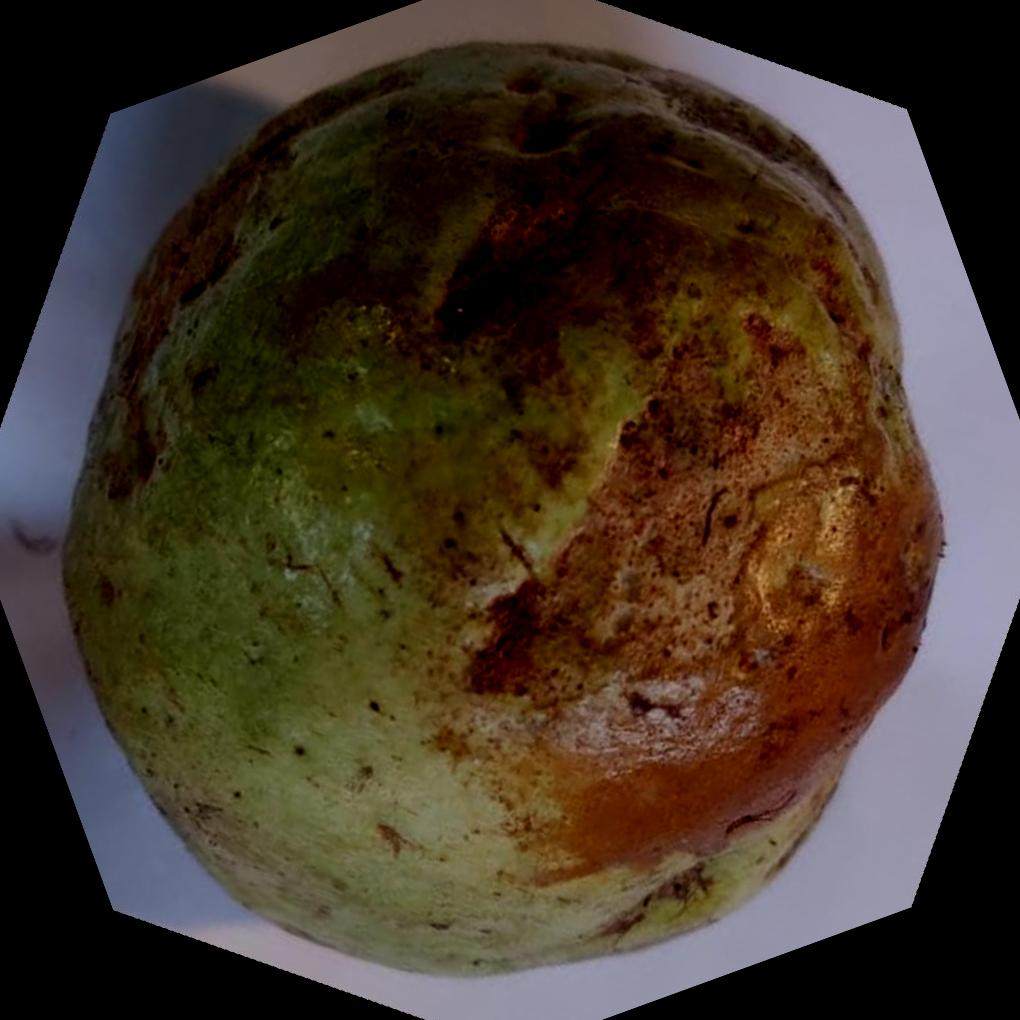FreshOrange: (58, 41, 948, 982)
